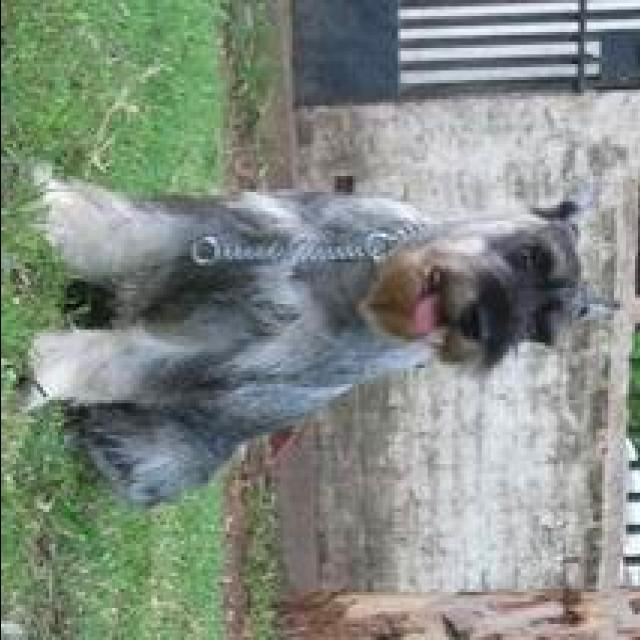standard_schnauzer: (18, 163, 595, 512)
